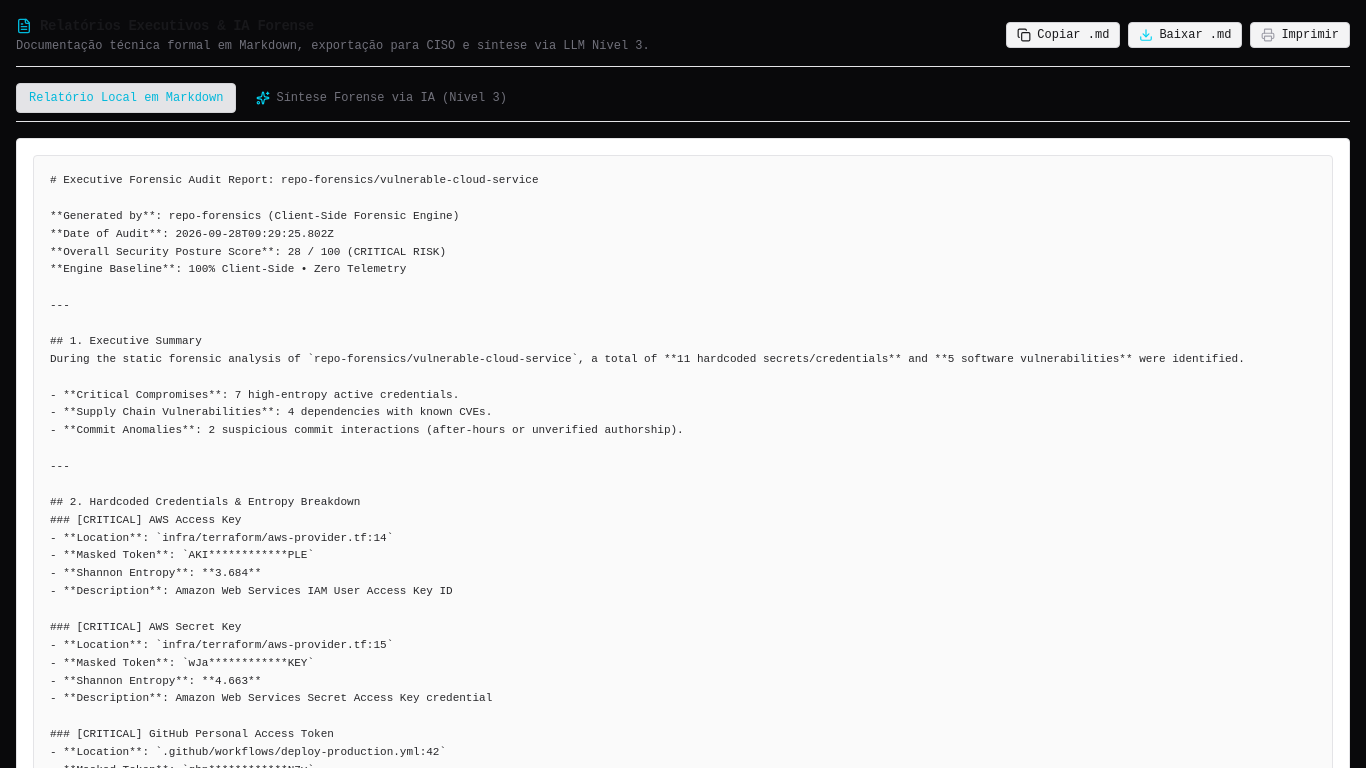
ReportsView and AI Key Guardrail (ReportsView.test.tsx) › unlocks AI synthesis generation when valid AI key is configured
The width and height of the screenshot is (1366, 768).
// Switch to AI tab
Click the button "Síntese Forense via IA (Nível 3)". click: [382, 98]
box: x1=244 y1=84 x2=519 y2=112
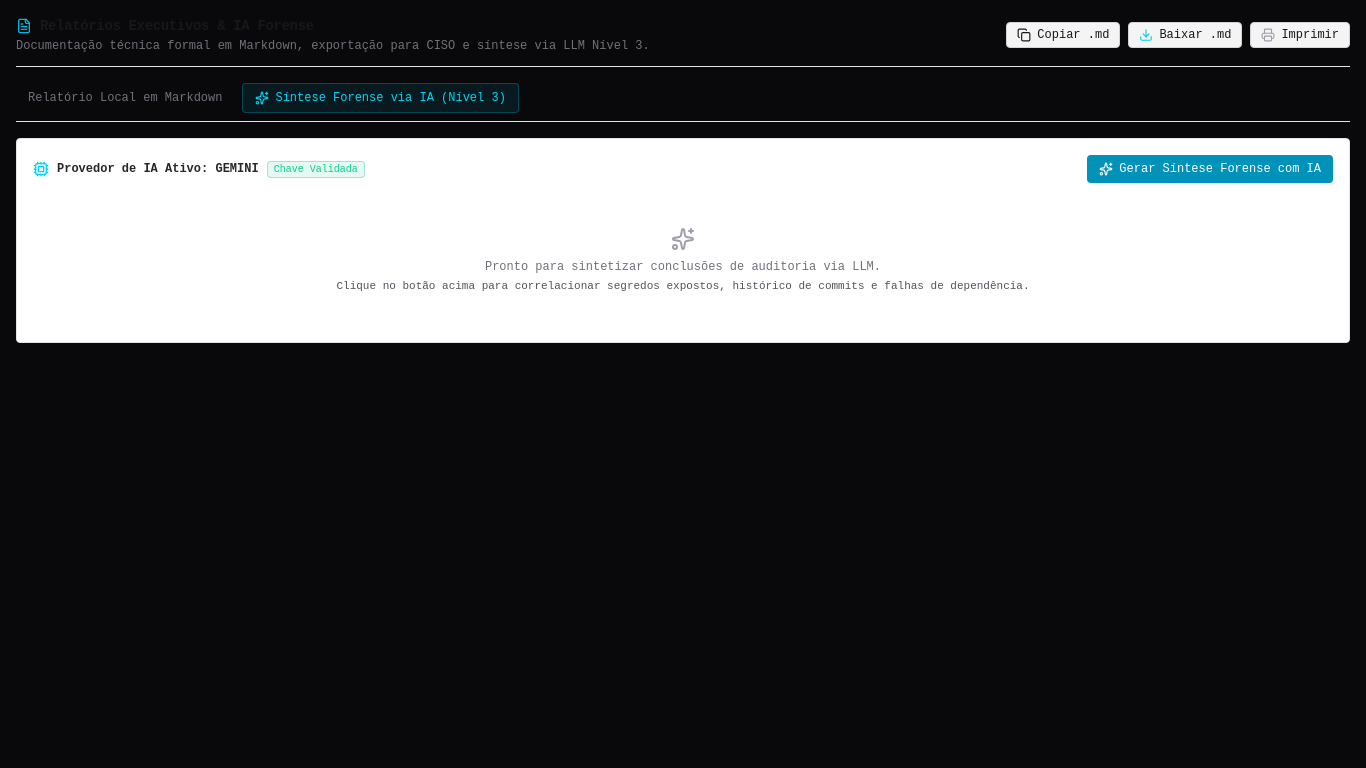
Expected: the text "Gerar Síntese Forense com IA" is shown, x1=1119 y1=161 x2=1321 y2=177
